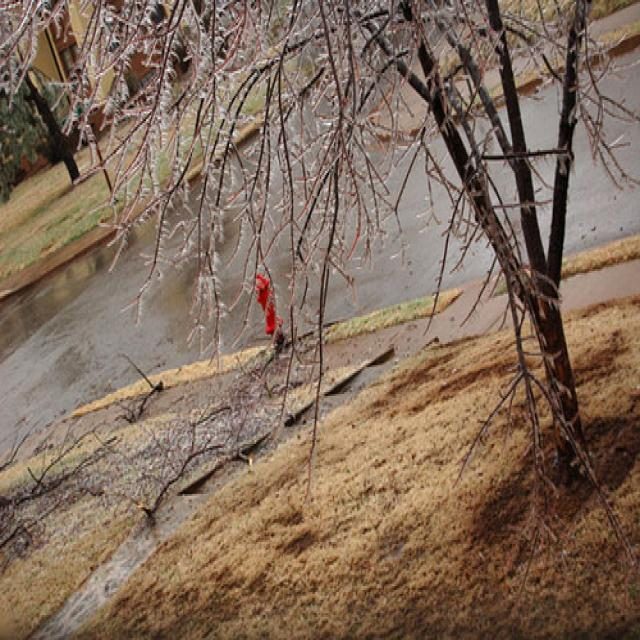fire_hydrant: (254, 270, 284, 332)
